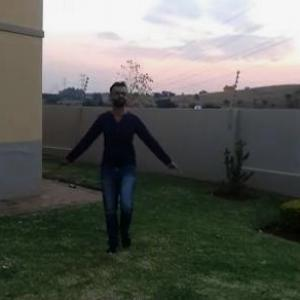land: (77, 93, 168, 222)
